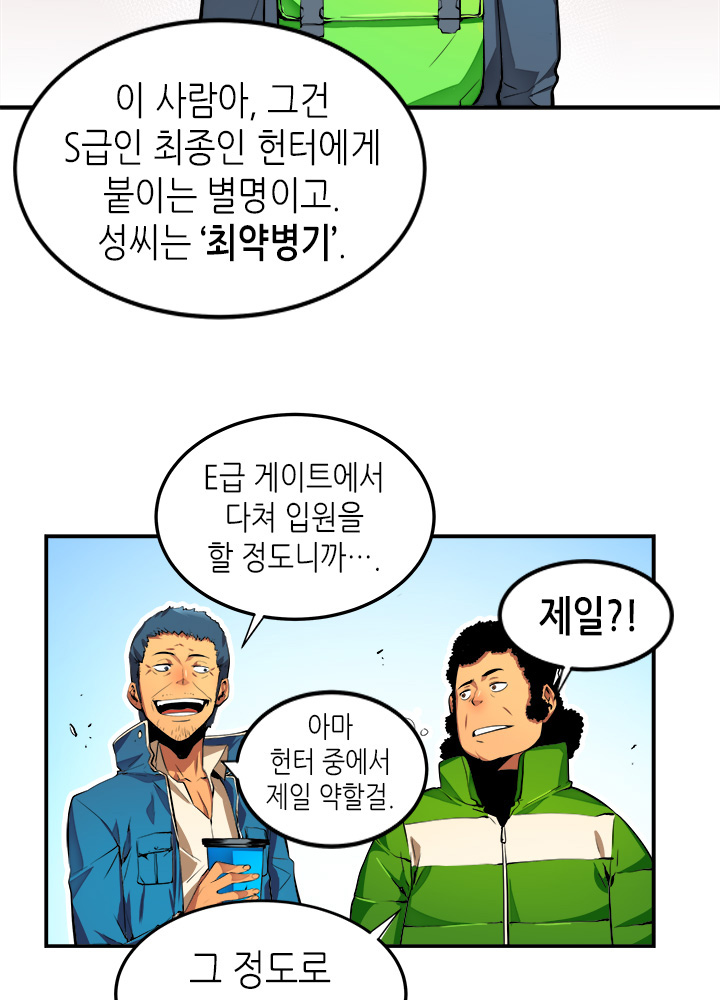dialog box: (5, 6, 454, 360), (118, 397, 471, 658), (191, 671, 455, 865), (92, 867, 440, 1000), (479, 543, 697, 702)
text: (42, 54, 403, 287), (186, 442, 405, 594), (249, 699, 410, 828), (168, 930, 359, 1000), (512, 572, 661, 656)
